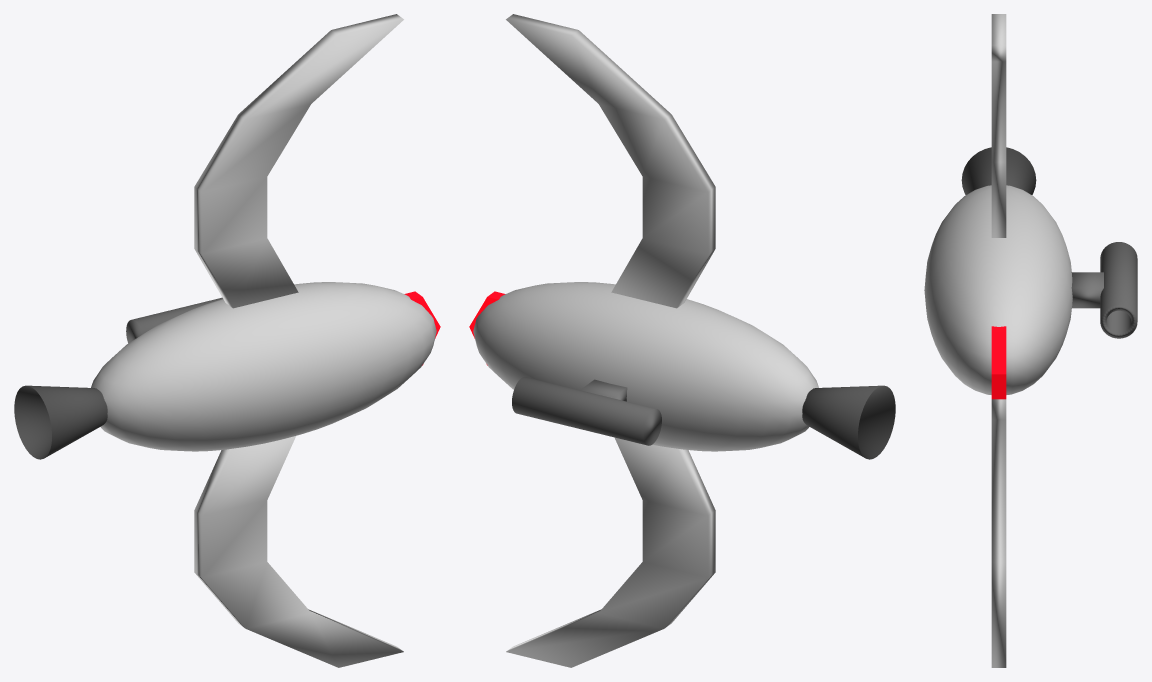
The model's file is SwooperShip(Model).fbx.
3 views of the same model, side by side, from view 1: azimuth 30°, elevation 25°; view 2: azimuth 150°, elevation 25°; view 3: azimuth 270°, elevation 25° (orthographic).
Visible parts, largest first — view 1: SwooperShip; view 2: SwooperShip; view 3: SwooperShip.
Part boxes in pixels (x1,y1,x2,y2): SwooperShip: [14, 14, 440, 667]; SwooperShip: [469, 14, 895, 667]; SwooperShip: [924, 14, 1137, 667].
Bounding box in the file's own units: 61.55 × 92.12 × 28.58.
